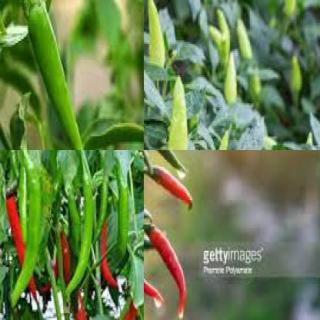green_chilli: (20, 2, 98, 150), (10, 158, 42, 310), (63, 178, 95, 299), (167, 73, 191, 149), (143, 0, 165, 65), (66, 193, 84, 262), (93, 181, 112, 245), (113, 183, 130, 253), (0, 150, 47, 175), (236, 18, 256, 63), (216, 5, 230, 60), (223, 53, 237, 105), (205, 129, 233, 149), (208, 23, 221, 61)
